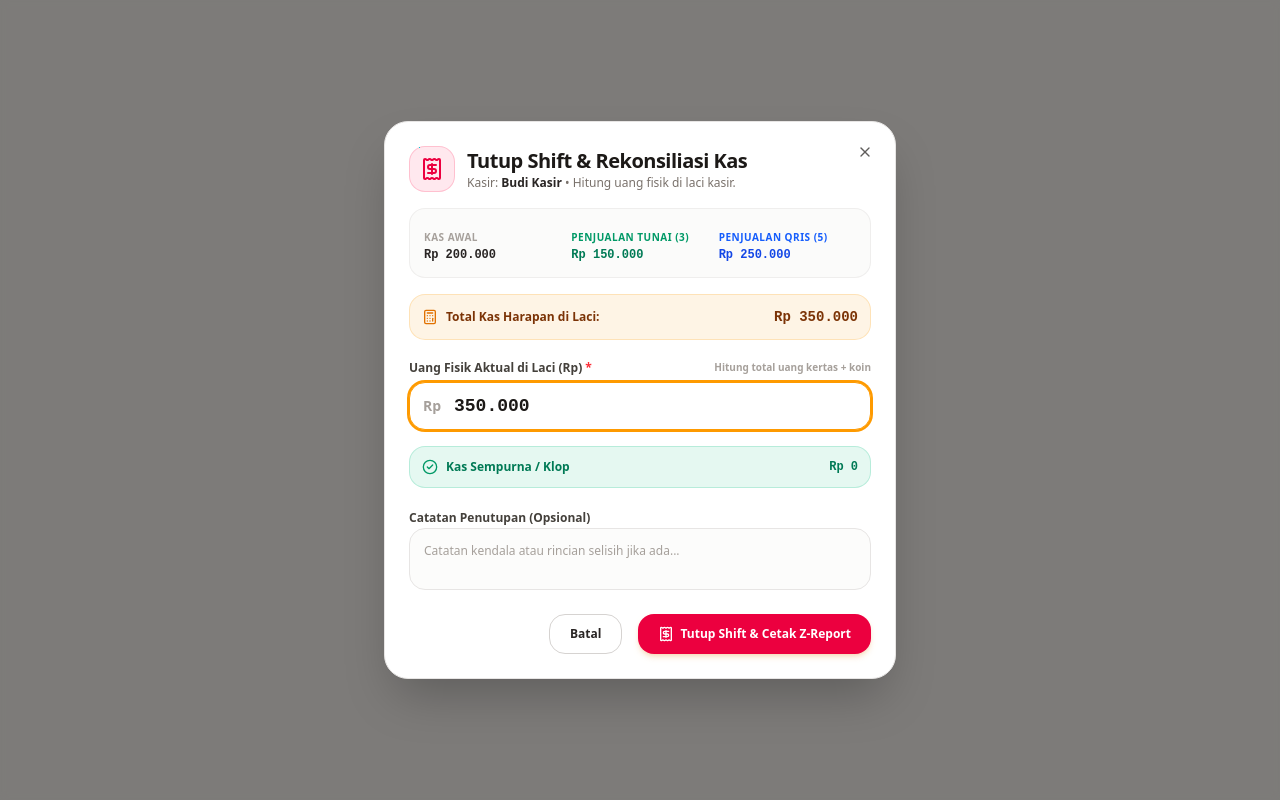
Shifts Domain UI Components › CloseShiftModal › renders expected cash summary, handles actual cash variance, and submits reconciliation
The image size is (1280, 800).
Later steps or results of the test are not shown.
Expected: the heading "Tutup Shift & Rekonsiliasi Kas" is shown, [467,147,747,175]
Expected: the text "Total Kas Harapan di Laci:" is shown, [446,309,600,325]
Input actual cash with surplus
Replace the text in the field showing "350.000" with "360000": (640, 406) [409,382,871,430]
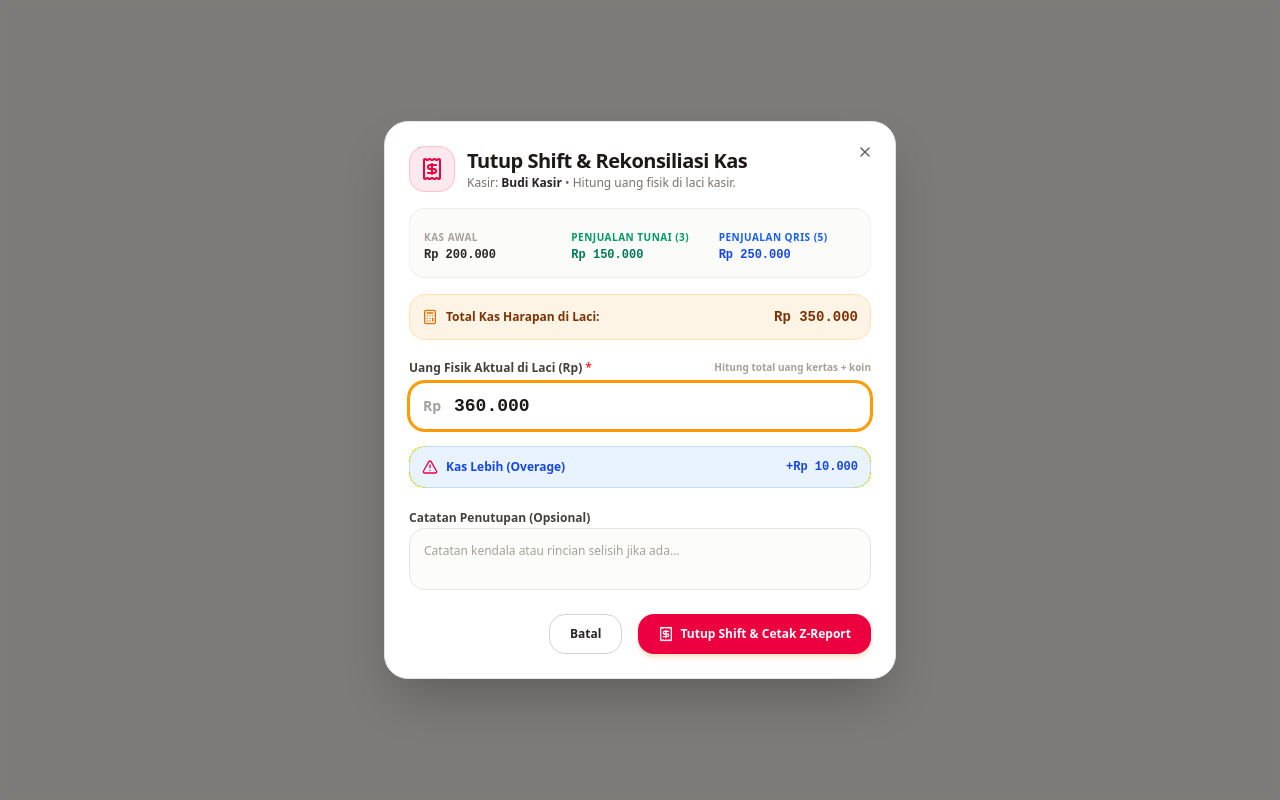
Now the text "Kas Lebih (Overage)" is shown, box [446,459,565,475]
Input actual cash with deficit
Replace the text in the field showing "350.000" with "340000": (640, 406) [409,382,871,430]
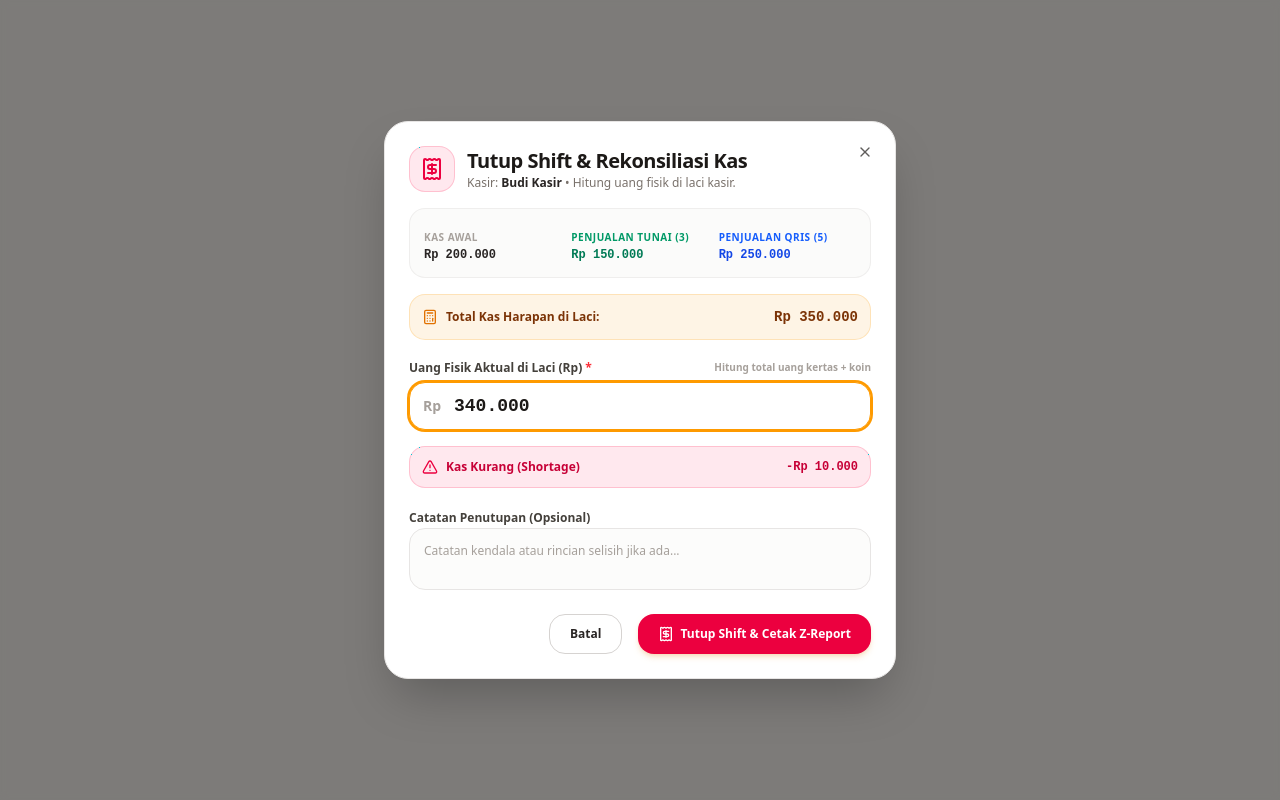
Now the text "Kas Kurang (Shortage)" is shown, box [446,459,580,475]
